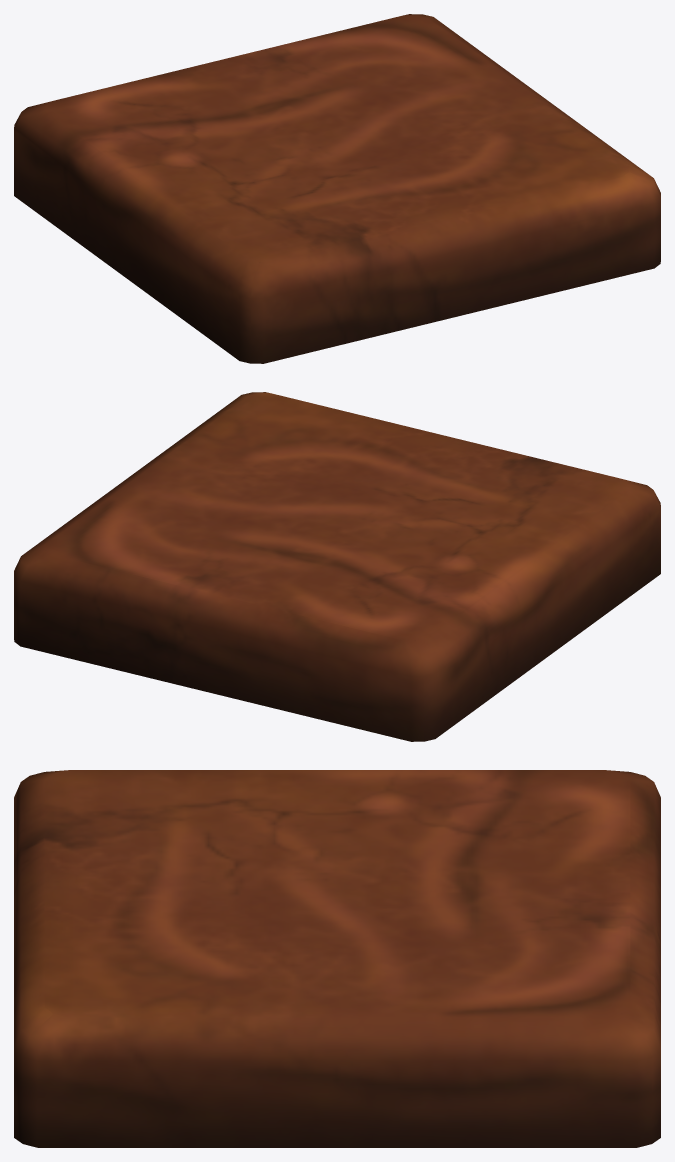
The model's file is Block_Cap_Clay.fbx.
3 views of the same model, one above another, from view 1: azimuth 30°, elevation 25°; view 2: azimuth 150°, elevation 25°; view 3: azimuth 270°, elevation 25° (orthographic). The views are drawn at different scales.
Parts seen in each view (by area): view 1: Block_Cap_Clay; view 2: Block_Cap_Clay; view 3: Block_Cap_Clay.
Part boxes in pixels (x1,y1,x2,y2): Block_Cap_Clay: (14, 14, 660, 363); Block_Cap_Clay: (14, 392, 660, 741); Block_Cap_Clay: (14, 770, 660, 1147).
Bounding box in the file's own units: 100 × 20 × 100.
